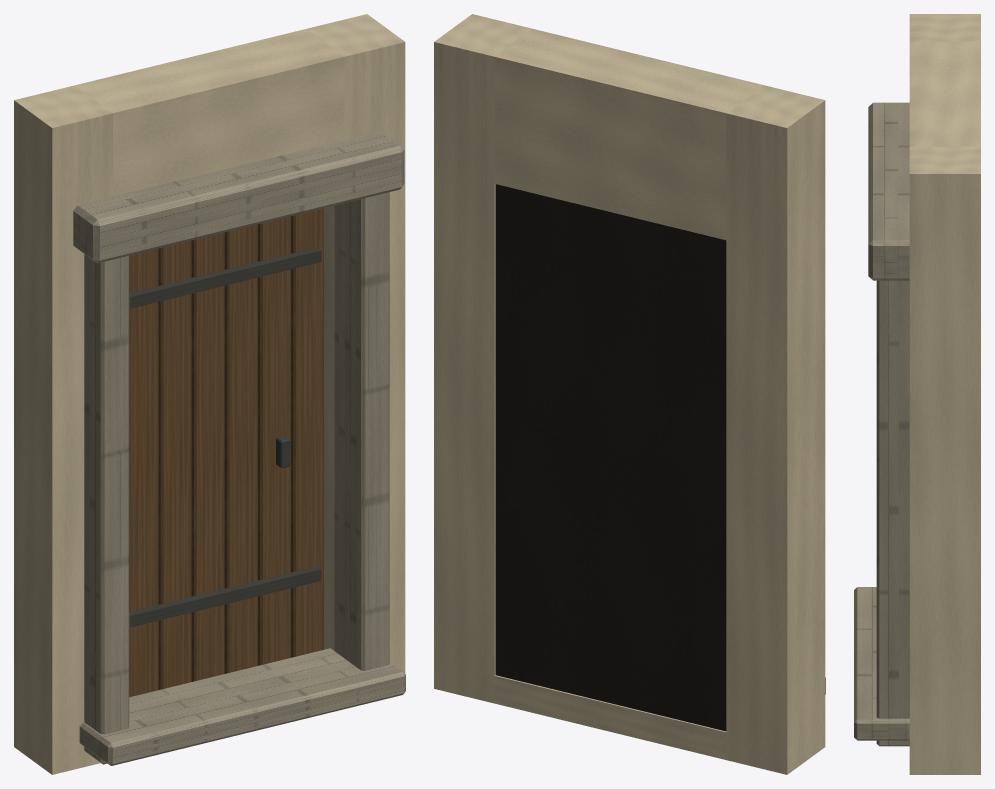
File: module-door-bay.glb
3 renders of one model, left to right at view 1: azimuth 30°, elevation 25°; view 2: azimuth 150°, elevation 25°; view 3: azimuth 270°, elevation 25°, orthographic. The views are drawn at different scales.
Parts seen in each view (by area): view 1: module-door-bay; view 2: module-door-bay; view 3: module-door-bay.
Boxes of the visible parts, box(x1,y1,x2,y2) form: module-door-bay: box(14, 14, 405, 774); module-door-bay: box(434, 14, 825, 774); module-door-bay: box(854, 14, 980, 774).
Size of the model in its own units: 1.6 by 2.8 by 0.535.
1 material, 1 textured.
